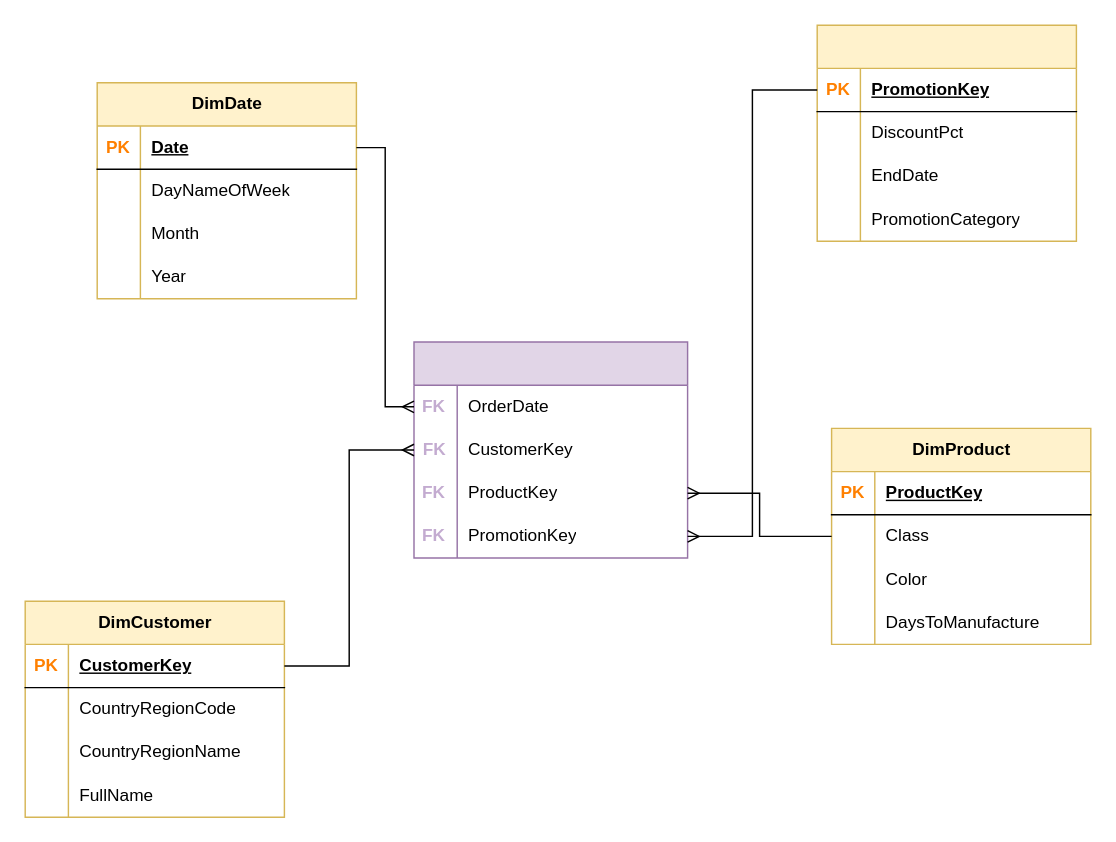
Some shapes in this 1116 by 842 pixel diagram are drawn without their labels. Each missing label, with the box of its shape:
DimPromotion: (816, 24, 1076, 241)
FactInternetSales: (413, 341, 688, 558)
